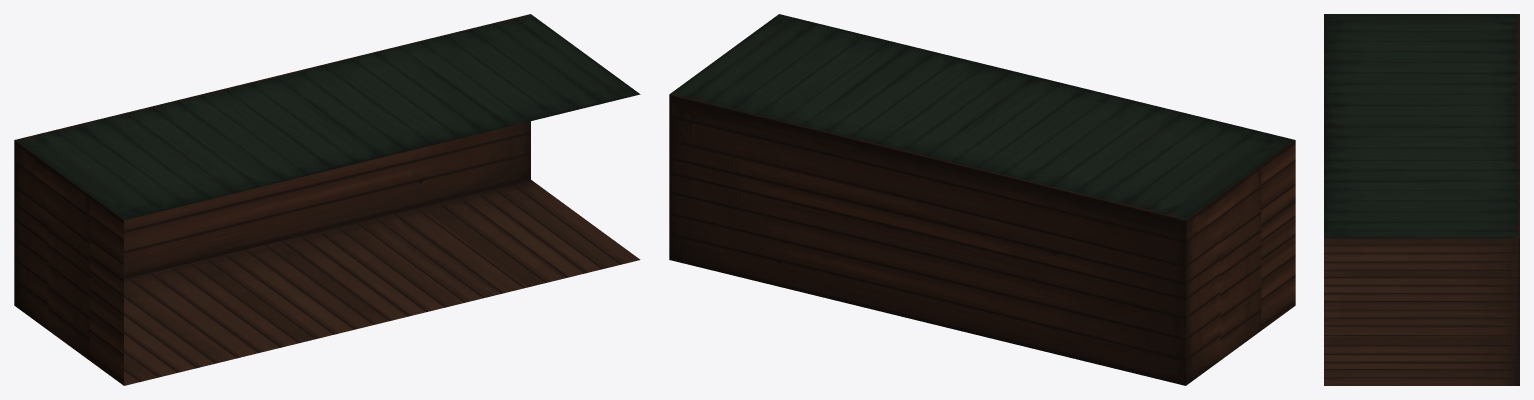
File: CarriageShell_DeletedWall.fbx
The picture shows the model from 3 angles, left to right: view 1: azimuth 30°, elevation 25°; view 2: azimuth 150°, elevation 25°; view 3: azimuth 270°, elevation 25°; orthographic projection. The views are drawn at different scales.
Visible parts, largest first — view 1: CarriageShell_DeletedWall; view 2: CarriageShell_DeletedWall; view 3: CarriageShell_DeletedWall.
Boxes of the visible parts, x1,y1,x2,y2 form: CarriageShell_DeletedWall: [14, 14, 640, 385]; CarriageShell_DeletedWall: [669, 14, 1295, 385]; CarriageShell_DeletedWall: [1324, 14, 1519, 385].
Bounding box in the file's own units: 110 × 33.73 × 40.6.
